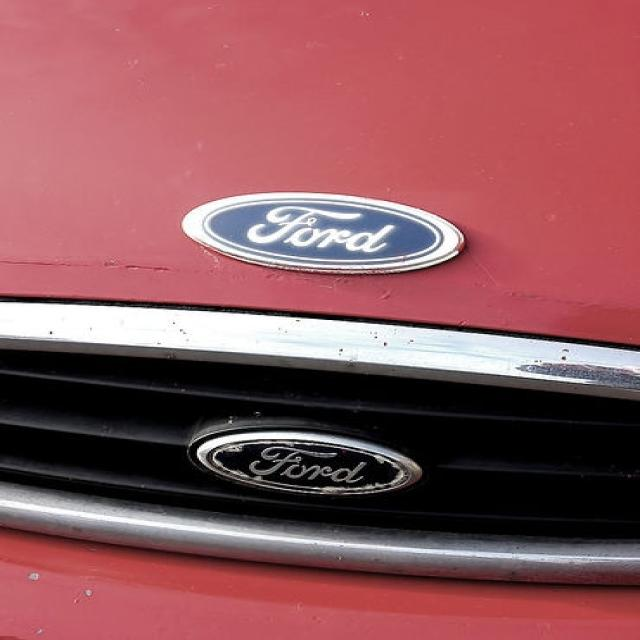ford: (178, 188, 474, 281), (190, 426, 428, 500)
